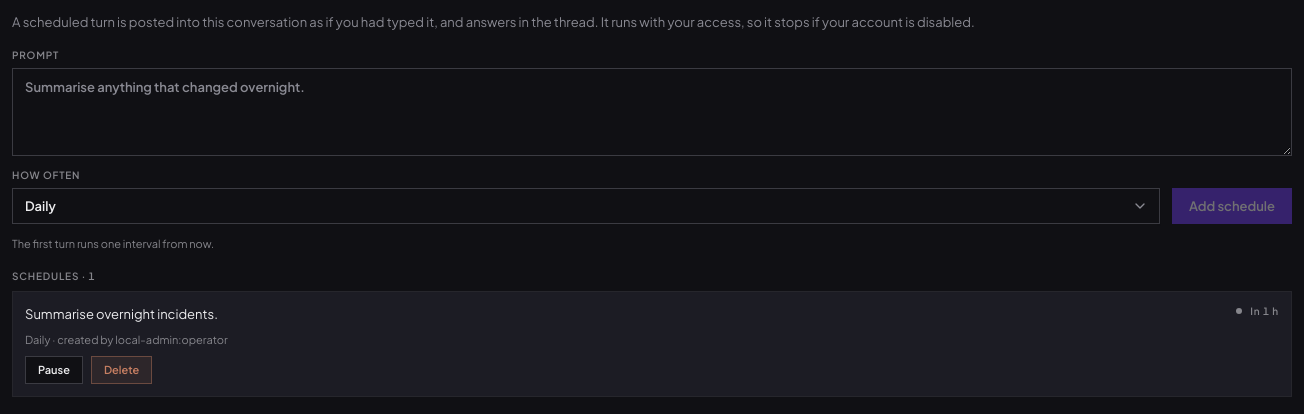
Test: chat schedules › deletes a schedule and stops showing it
The image size is (1304, 414).
Expected: the text "Summarise overnight incidents." is shown, x1=25 y1=304 x2=218 y2=324
Click the button "Delete" at (122, 370), box x1=91 y1=356 x2=152 y2=384
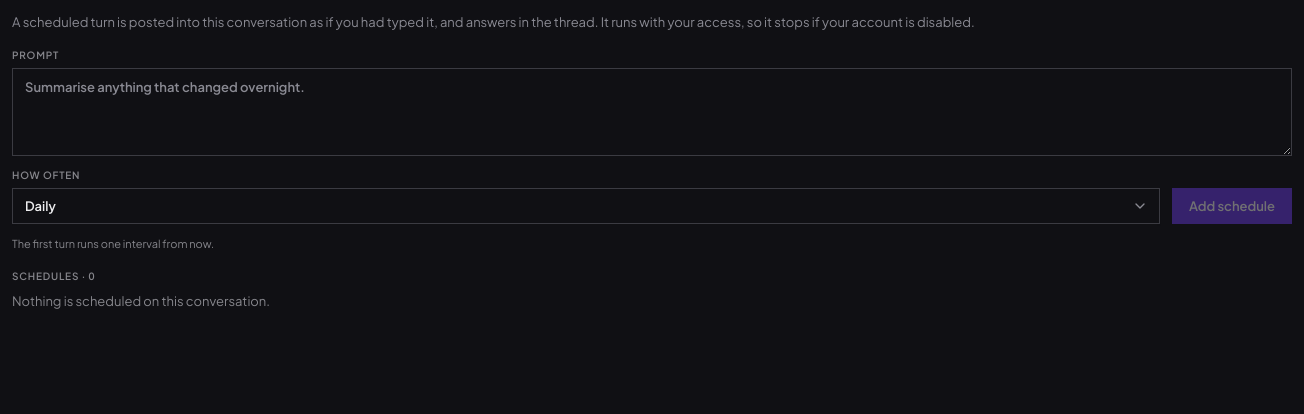
Expected: the text "Summarise overnight incidents." is gone
